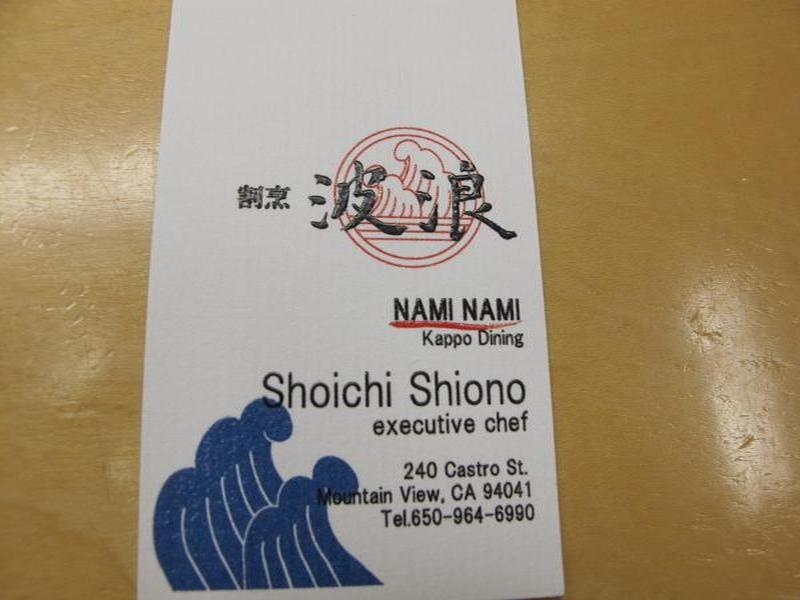card: (140, 3, 564, 598)
